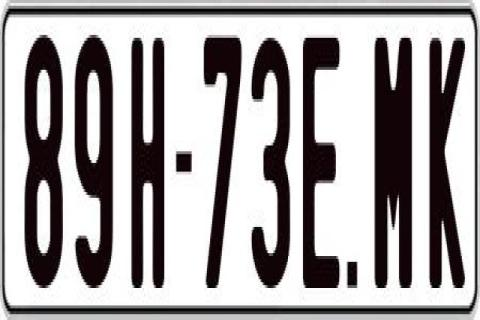0: (73, 35, 116, 297), (249, 32, 292, 282), (202, 29, 243, 285), (22, 32, 60, 294)
E: (300, 38, 343, 288)
H: (128, 29, 162, 282)
K: (427, 29, 464, 294)
M: (375, 38, 413, 300)
